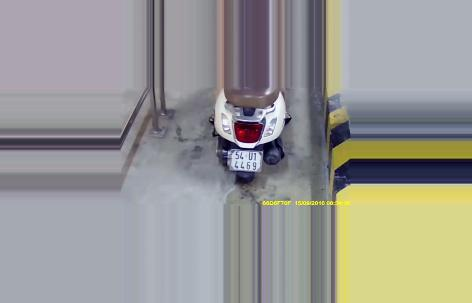License_Plate: (225, 148, 264, 177)
